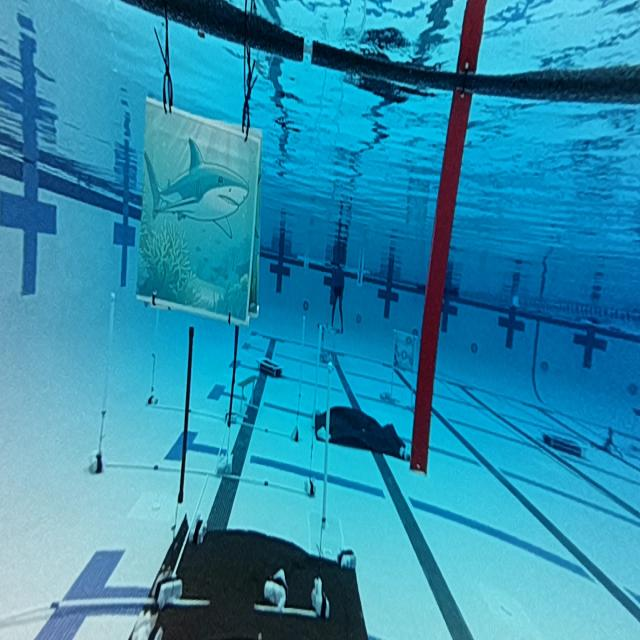round_nose: (131, 103, 265, 318)
